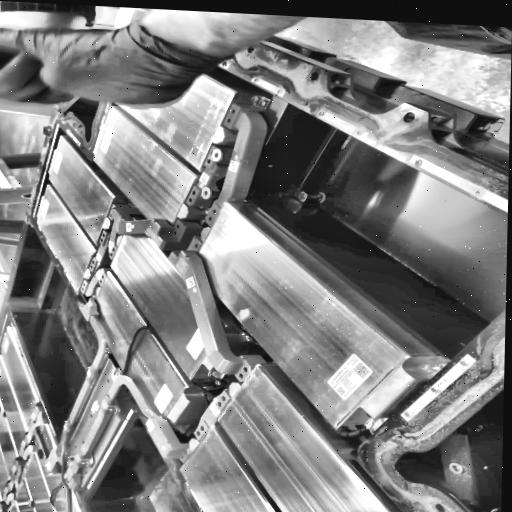busbar: (0, 98, 262, 512)
